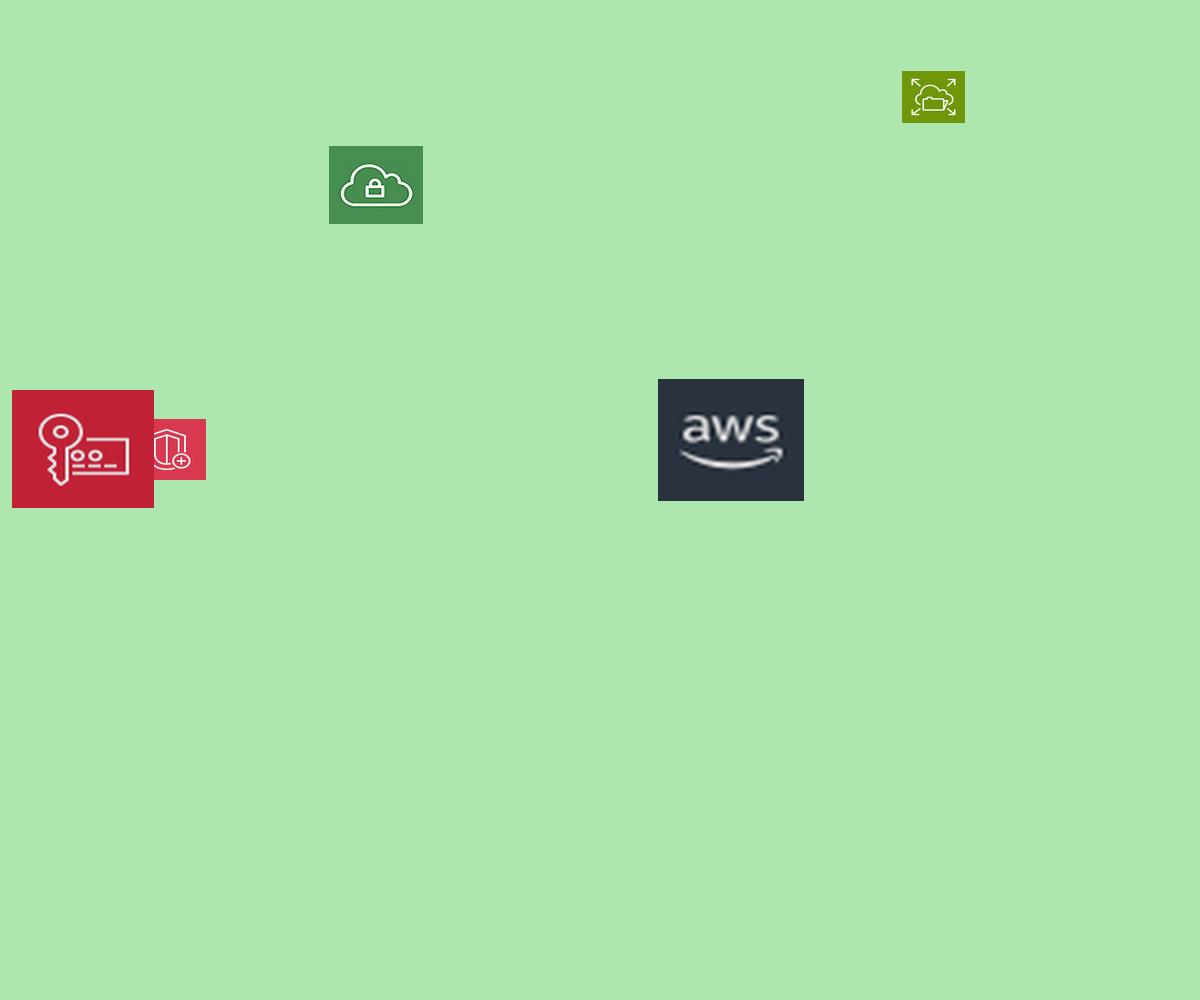AWS-Cloud-logo: (658, 379, 804, 501)
AWS-EFS: (902, 71, 965, 123)
AWS-Key-Management-Service: (12, 390, 154, 508)
AWS-Private_vpc: (329, 146, 423, 224)
AWS-Shield: (133, 419, 206, 480)
